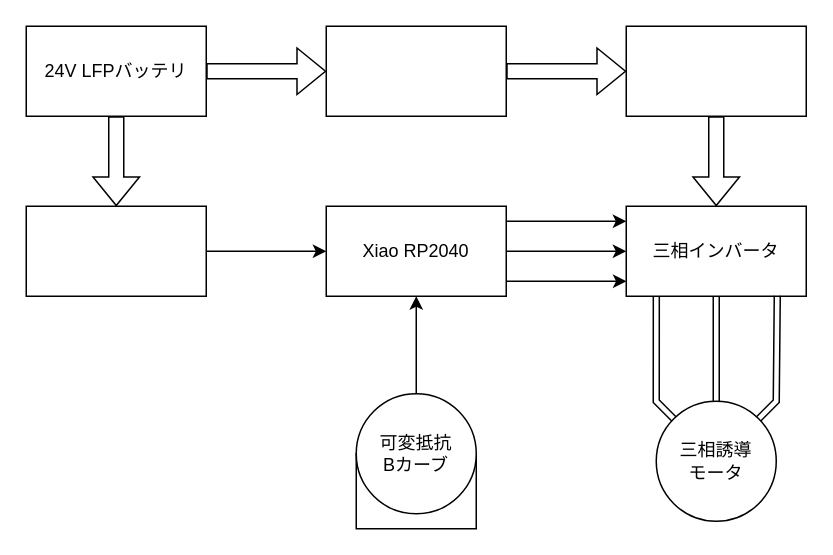
The diagram is 833 pixels wide and 555 high, and some of its shapes have lost their labels. The centre of each missing label's shape, as x and y in pixels:
"1次昇圧回路 24V -> 80V" belongs at (415,70).
"2次昇圧回路 80V -> 280V" belongs at (715,70).
"降圧回路 24V -> 5V" belongs at (115,250).
